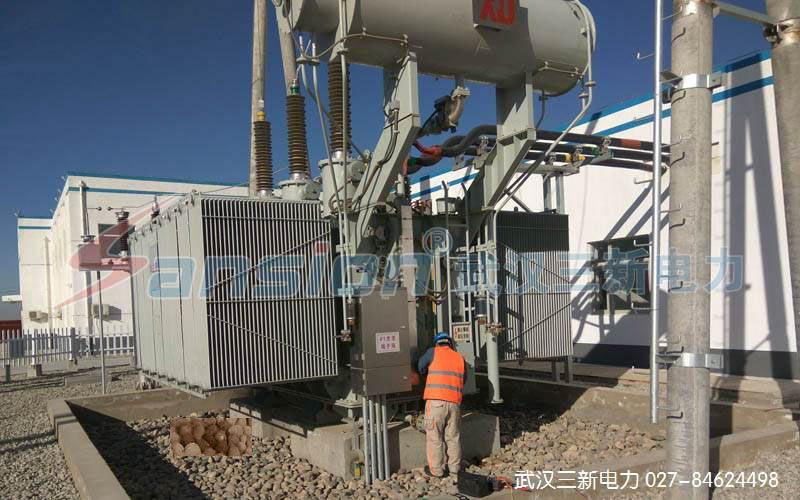oil: (172, 416, 254, 454)
